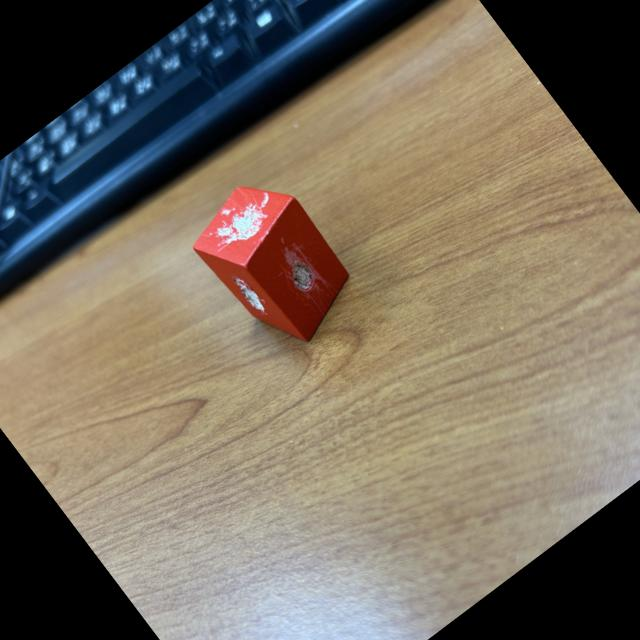broken: (178, 160, 371, 364)
